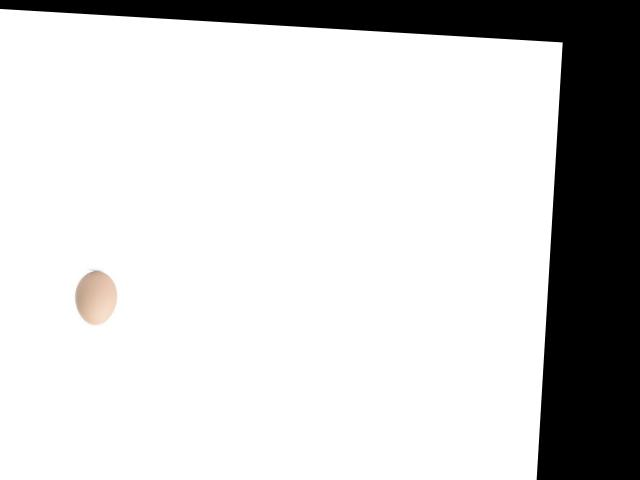egg: (73, 269, 117, 325)
